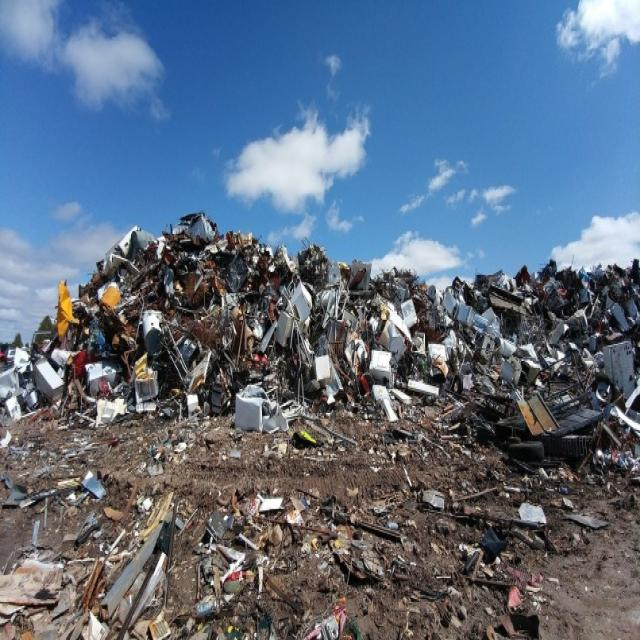Hazard: (3, 221, 637, 439)
